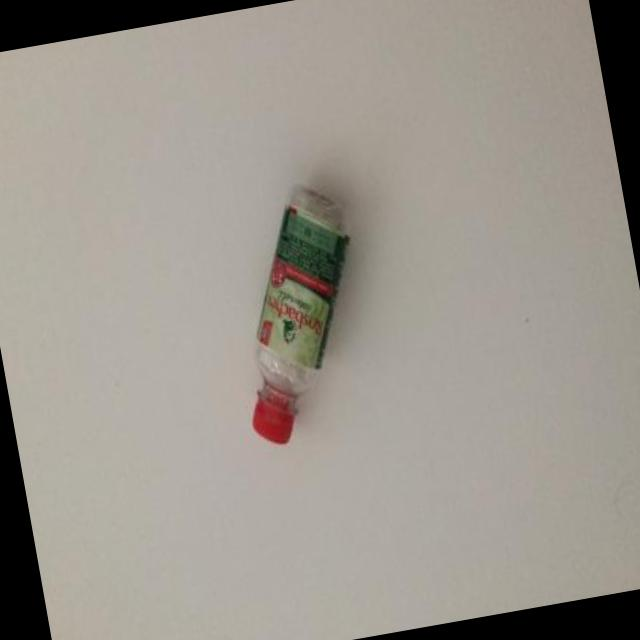Recycle: (210, 168, 398, 450)
